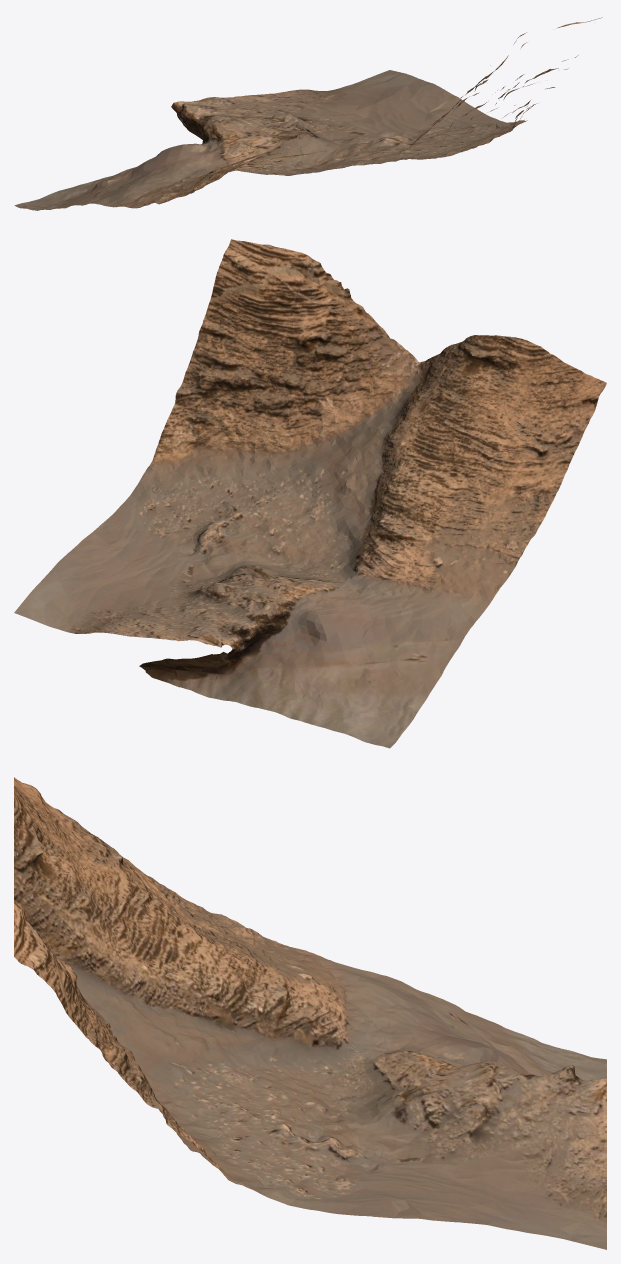
The picture shows the model from 3 angles, top to bottom: view 1: azimuth 30°, elevation 25°; view 2: azimuth 150°, elevation 25°; view 3: azimuth 270°, elevation 25°; orthographic projection. The views are drawn at different scales.
Size of the model in its own units: 2.09 by 1.39 by 2.09.
3 materials, 3 textured.
